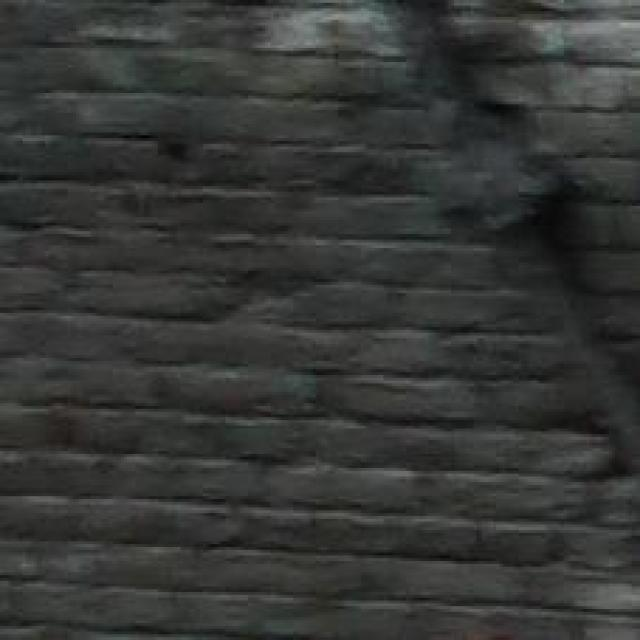Crack: (443, 166, 640, 490)
